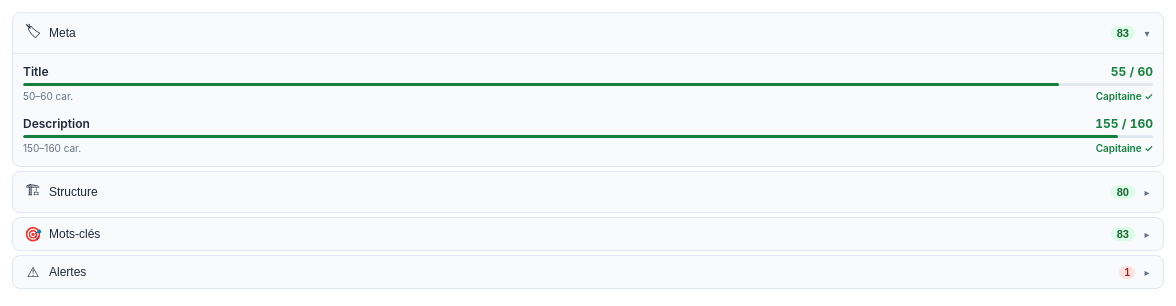
Test case: IndicatorsTab › structure card shows H2/H3 counts
This screenshot has width=1176, height=306.
Click the button with class "card-header" showing "🏗 Structure 80 ▸" at (73, 192), box [13,172,1163,212]
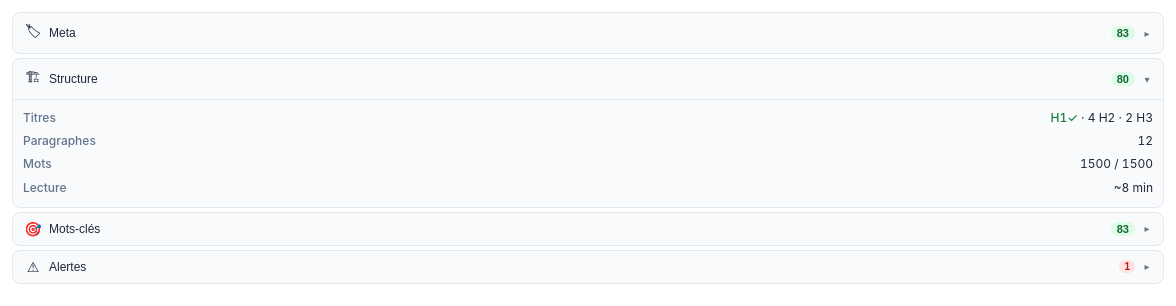
Now the text "4 H2" is shown, box [1078,110,1153,125]
Now the text "2 H3" is shown, box [1078,110,1153,125]
